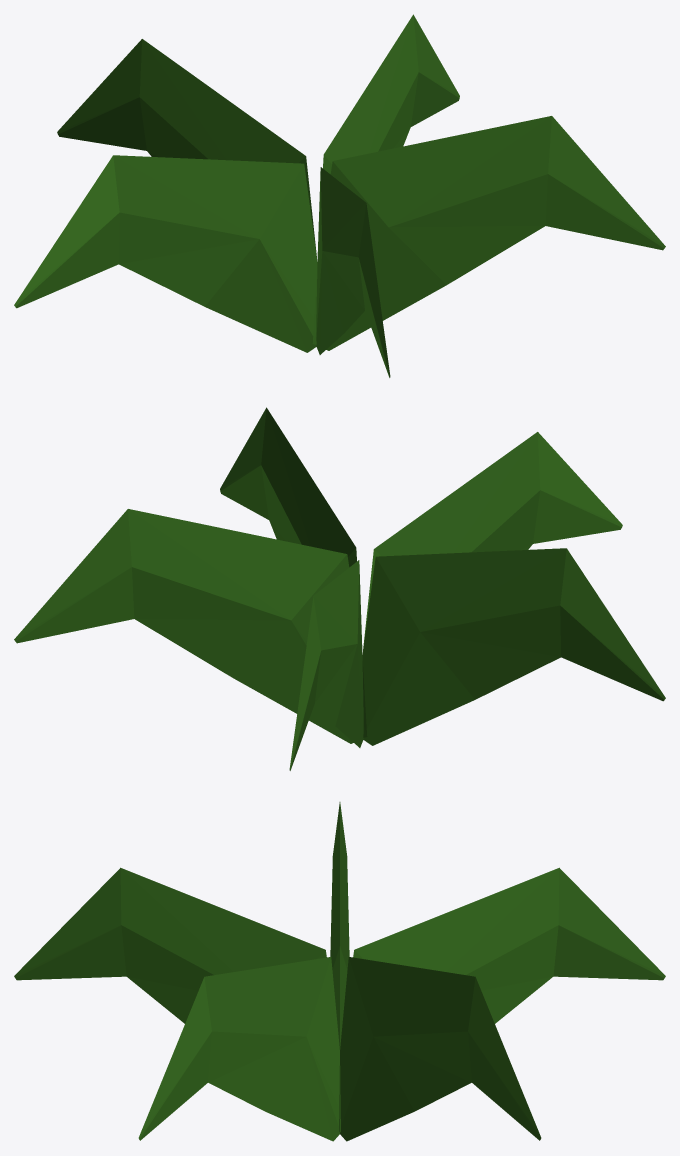
The model's file is N30_Broadleaf_Plant.fbx.
3 views of the same model, one above another, from view 1: azimuth 30°, elevation 25°; view 2: azimuth 150°, elevation 25°; view 3: azimuth 270°, elevation 25° (orthographic). The views are drawn at different scales.
Parts seen in each view (by area): view 1: N30_Broadleaf_Plant; view 2: N30_Broadleaf_Plant; view 3: N30_Broadleaf_Plant.
Boxes of the visible parts, x1,y1,x2,y2 form: N30_Broadleaf_Plant: (14,14,665,377); N30_Broadleaf_Plant: (14,407,665,770); N30_Broadleaf_Plant: (14,802,665,1141).
Size of the model in its own units: 0.872 by 0.3723 by 0.9169.
1 material, 1 textured.
